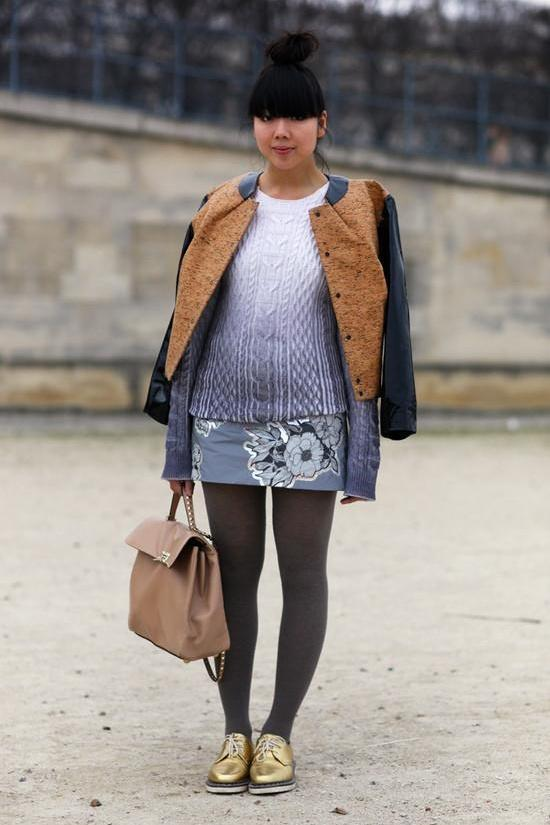skirt: (176, 376, 350, 492)
sweater: (150, 174, 415, 502)
